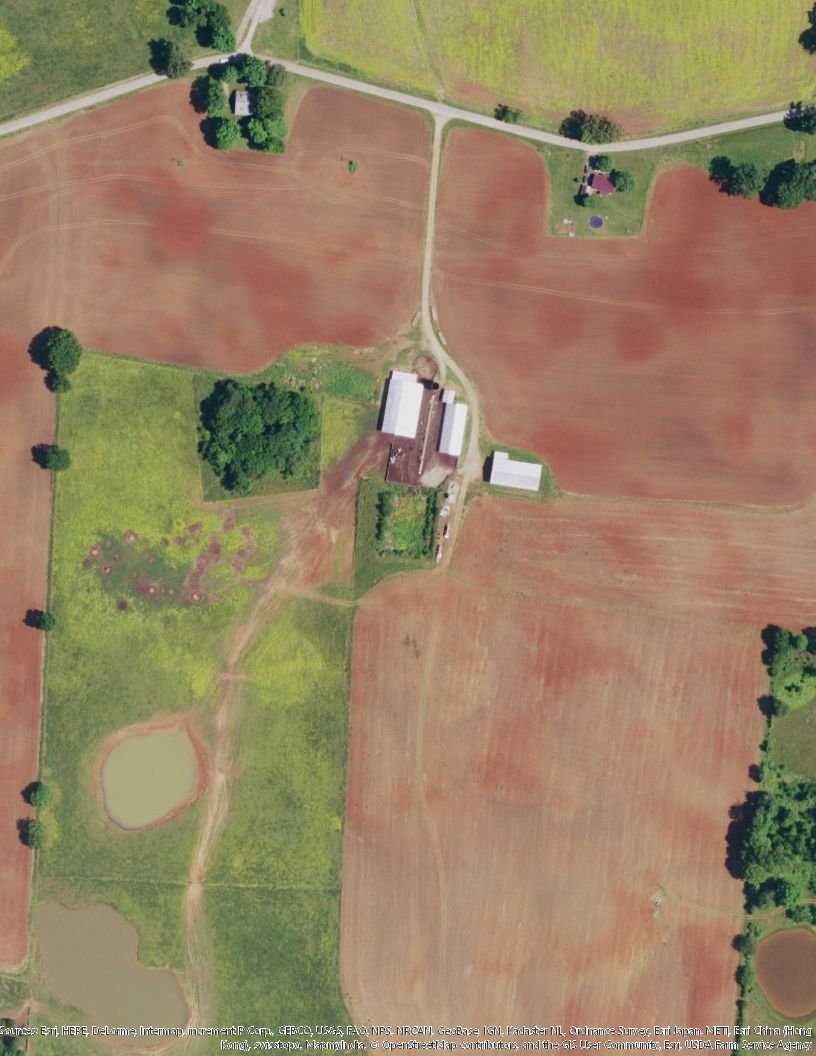cafo: (377, 368, 426, 438), (484, 450, 548, 495), (435, 386, 469, 461)
